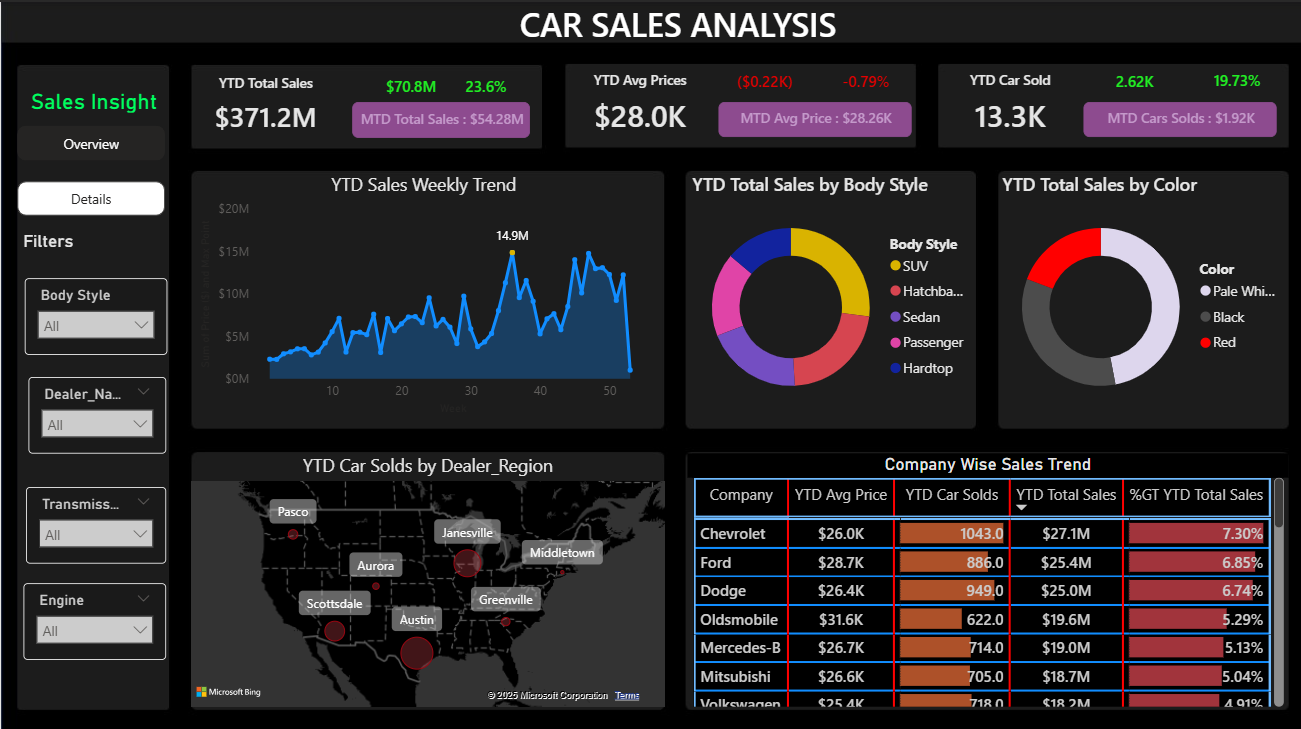

Layout of this report page (visuals, bound fields, positions):
{"tool":"powerbi","page":{"name":"Overview","canvas":[1280,720],"ordinal":0},"visuals":[{"type":"card","title":"YTD Total Sales","fields":{"Values":["car_data.YTD Total Sales"]},"box":[190.7,69.8,139.5,73.3],"z":0},{"type":"card","fields":{"Values":["car_data.Sales Difference"]},"box":[352.3,67.4,101.2,34.9],"z":1000},{"type":"card","fields":{"Values":["car_data.YOY Sales Growth"]},"box":[425.6,67.4,101.2,34.9],"z":2000},{"type":"card","fields":{"Values":["car_data.MTD KPI"]},"box":[344.2,97.7,174.4,35],"z":3000},{"type":"card","title":"YTD Avg Prices","fields":{"Values":["car_data.YTD Avg Price"]},"box":[555.8,67.4,143,75.6],"z":4000},{"type":"card","fields":{"Values":["car_data.Avg Price Diff"]},"box":[698.8,62.8,101.2,34.9],"z":5000},{"type":"card","fields":{"Values":["car_data.YOY Avg Price Growth"]},"box":[799.2,63.2,100.8,35.2],"z":6000},{"type":"card","fields":{"Values":["car_data.MTD Avg Price KPI"]},"box":[704.5,98.4,189.5,34],"z":7000},{"type":"card","title":"YTD Car Sold","fields":{"Values":["car_data.YTD Car Solds"]},"box":[919.5,68,143.3,75.3],"z":8000},{"type":"card","fields":{"Values":["car_data.Cars Sold Diff"]},"box":[1062.8,63.2,100.8,35.2],"z":9000},{"type":"card","fields":{"Values":["car_data.YOY Car Sold Growth"]},"box":[1163.6,61.9,100.8,35.2],"z":10000},{"type":"card","fields":{"Values":["car_data.MTD Cars Sold KPI"]},"box":[1062.8,98.4,189.5,34],"z":11000},{"type":"areaChart","title":"YTD Sales Weekly Trend","fields":{"Category":["Calendar Table.Week"],"Y":["Sum(car_data.Price ($))","car_data.Max Point"]},"box":[190.7,166.4,449.4,242.9],"z":12000},{"type":"donutChart","fields":{"Category":["car_data.Body Style"],"Y":["car_data.YTD Total Sales"]},"box":[674.1,166.4,286.7,242.9],"z":13000},{"type":"donutChart","fields":{"Y":["car_data.YTD Total Sales"],"Category":["car_data.Color"]},"box":[977.8,166.4,286.7,242.9],"z":14000},{"type":"map","fields":{"Category":["car_data.Dealer_Region"],"Size":["car_data.YTD Car Solds"]},"box":[182.2,443.3,474.9,253.9],"z":15000},{"type":"tableEx","title":"Company Wise Sales Trend","fields":{"Values":["car_data.Company","car_data.YTD Avg Price","car_data.YTD Car Solds","car_data.YTD Total Sales1","car_data.YTD Total Sales"]},"box":[674.1,443.3,590.3,253.9],"z":16000},{"type":"textbox","title":"CAR SALES ANALYSIS ","box":[504.1,0,389.9,40.1],"z":17000},{"type":"slicer","fields":{"Values":["car_data.Body Style"]},"box":[23.1,270.9,139.7,75.3],"z":18000},{"type":"slicer","fields":{"Values":["car_data.Dealer_Name"]},"box":[26.7,368,134.8,75.3],"z":19000},{"type":"slicer","fields":{"Values":["car_data.Transmission"]},"box":[24.3,476.1,137.3,75.3],"z":20000},{"type":"slicer","fields":{"Values":["car_data.Engine"]},"box":[21.9,570.9,139.7,75.3],"z":21000},{"type":"textbox","title":"Filters","box":[17,224.7,149.4,20.6],"z":22000},{"type":"textbox","title":"Sales Insight","box":[24.6,84.8,138.4,30.1],"z":23000},{"type":"pageNavigator","box":[15.8,121.5,145.8,89.9],"z":24000}]}

Visuals, with their boxes in screenshot pixels (x1, y1, x2, y2), scaled from the page's 1280x720 canvas onto the 1301x729 screenshot:
"YTD Total Sales" card: box(194, 71, 336, 145)
card - car_data.Sales Difference: box(358, 68, 461, 104)
card - car_data.YOY Sales Growth: box(433, 68, 535, 104)
card - car_data.MTD KPI: box(350, 99, 527, 134)
"YTD Avg Prices" card: box(565, 68, 710, 145)
card - car_data.Avg Price Diff: box(710, 64, 813, 99)
card - car_data.YOY Avg Price Growth: box(812, 64, 915, 100)
card - car_data.MTD Avg Price KPI: box(716, 100, 909, 134)
"YTD Car Sold" card: box(935, 69, 1080, 145)
card - car_data.Cars Sold Diff: box(1080, 64, 1183, 100)
card - car_data.YOY Car Sold Growth: box(1183, 63, 1285, 98)
card - car_data.MTD Cars Sold KPI: box(1080, 100, 1273, 134)
"YTD Sales Weekly Trend" areaChart: box(194, 168, 651, 414)
donutChart - car_data.Body Style x car_data.YTD Total Sales: box(685, 168, 977, 414)
donutChart - car_data.YTD Total Sales x car_data.Color: box(994, 168, 1285, 414)
map - car_data.Dealer_Region x car_data.YTD Car Solds: box(185, 449, 668, 706)
"Company Wise Sales Trend" tableEx: box(685, 449, 1285, 706)
"CAR SALES ANALYSIS " textbox: box(512, 0, 909, 41)
slicer - car_data.Body Style: box(23, 274, 165, 351)
slicer - car_data.Dealer_Name: box(27, 373, 164, 449)
slicer - car_data.Transmission: box(25, 482, 164, 558)
slicer - car_data.Engine: box(22, 578, 164, 654)
"Filters" textbox: box(17, 228, 169, 248)
"Sales Insight" textbox: box(25, 86, 166, 116)
pageNavigator: box(16, 123, 164, 214)
